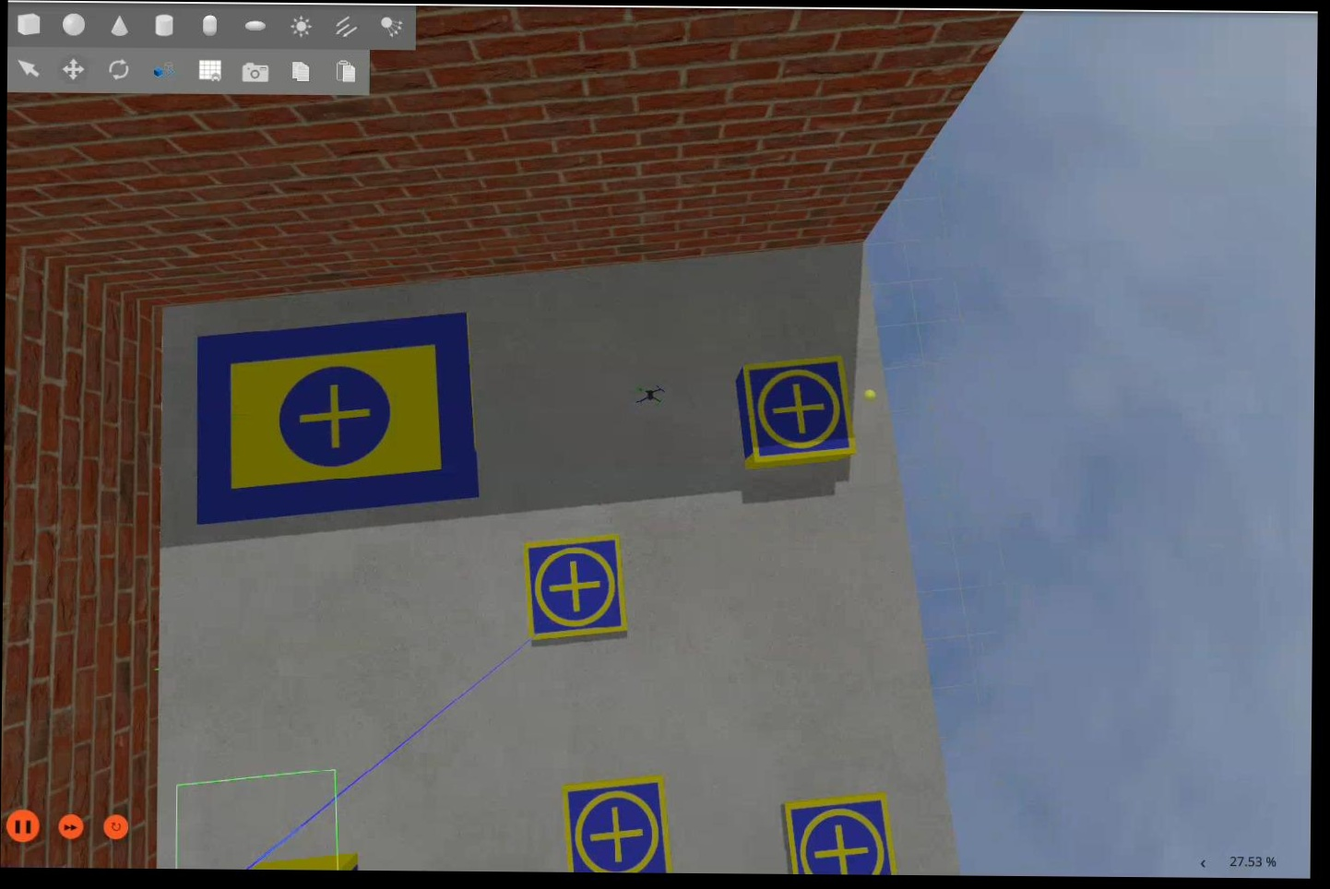large_base: (196, 312, 485, 531)
small_base: (738, 349, 857, 467), (522, 533, 630, 645), (561, 777, 671, 875), (780, 790, 898, 875)
